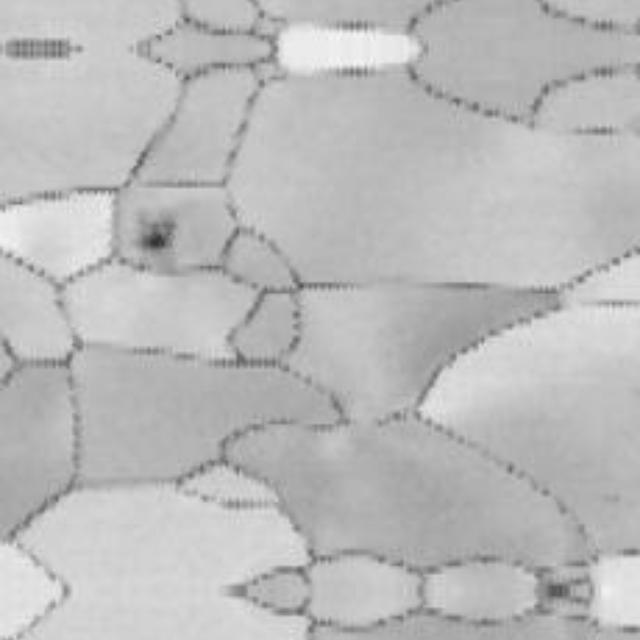good_void: (136, 212, 184, 260)
